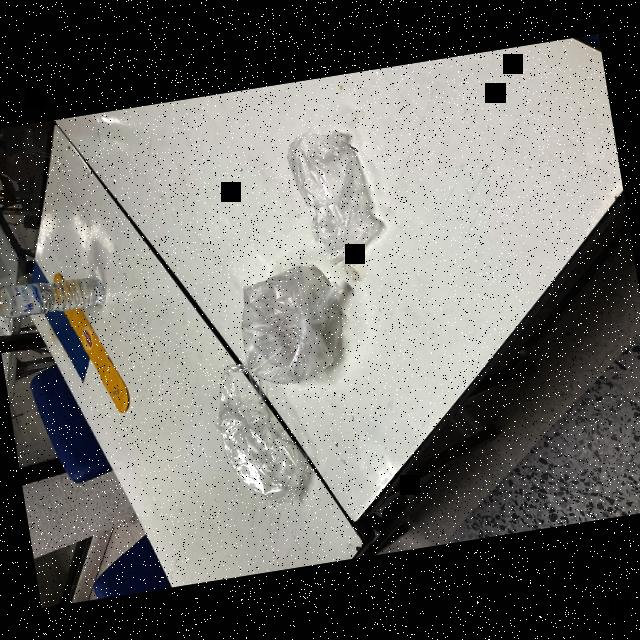plastic_bag: (183, 354, 310, 520), (225, 260, 363, 410)
scrap_plastic: (278, 112, 387, 280)
